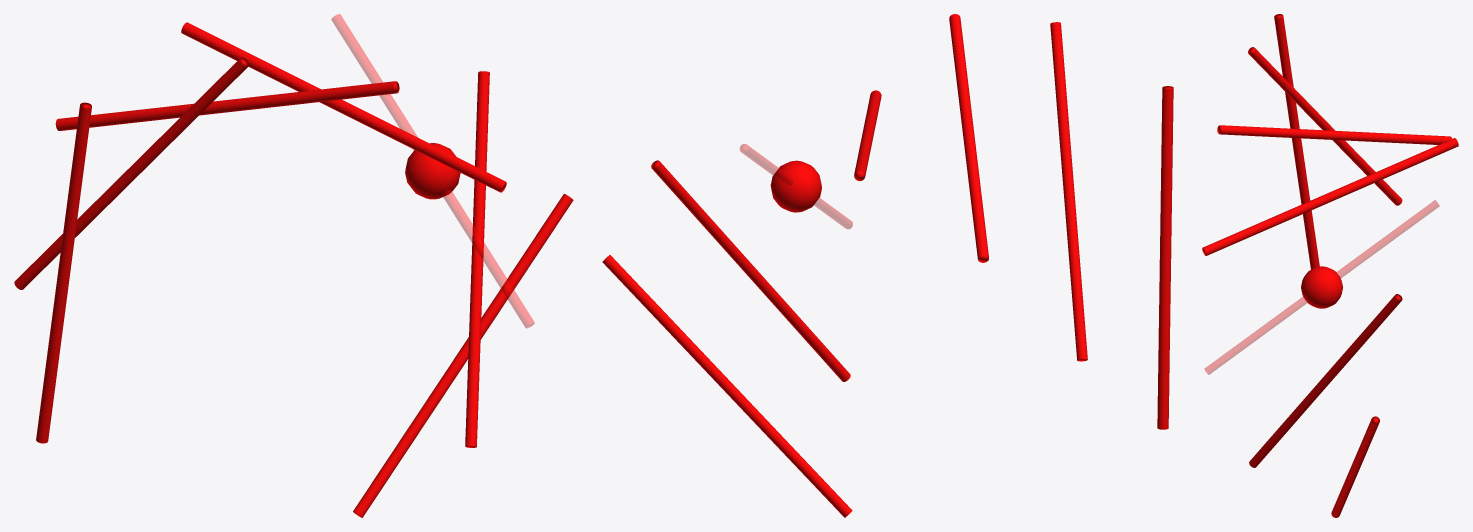
File: candidate.gltf
3 views of the same model, side by side, from view 1: azimuth 30°, elevation 25°; view 2: azimuth 150°, elevation 25°; view 3: azimuth 270°, elevation 25° (orthographic). The views are drawn at different scales.
Bounding box in the file's own units: 23.51 × 21.16 × 12.1.
